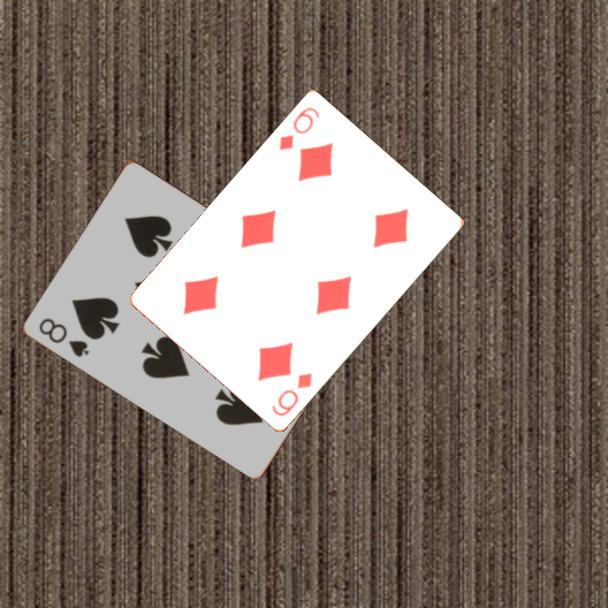d06: (268, 370, 315, 420), (276, 104, 323, 154)
s08: (36, 314, 93, 360)
